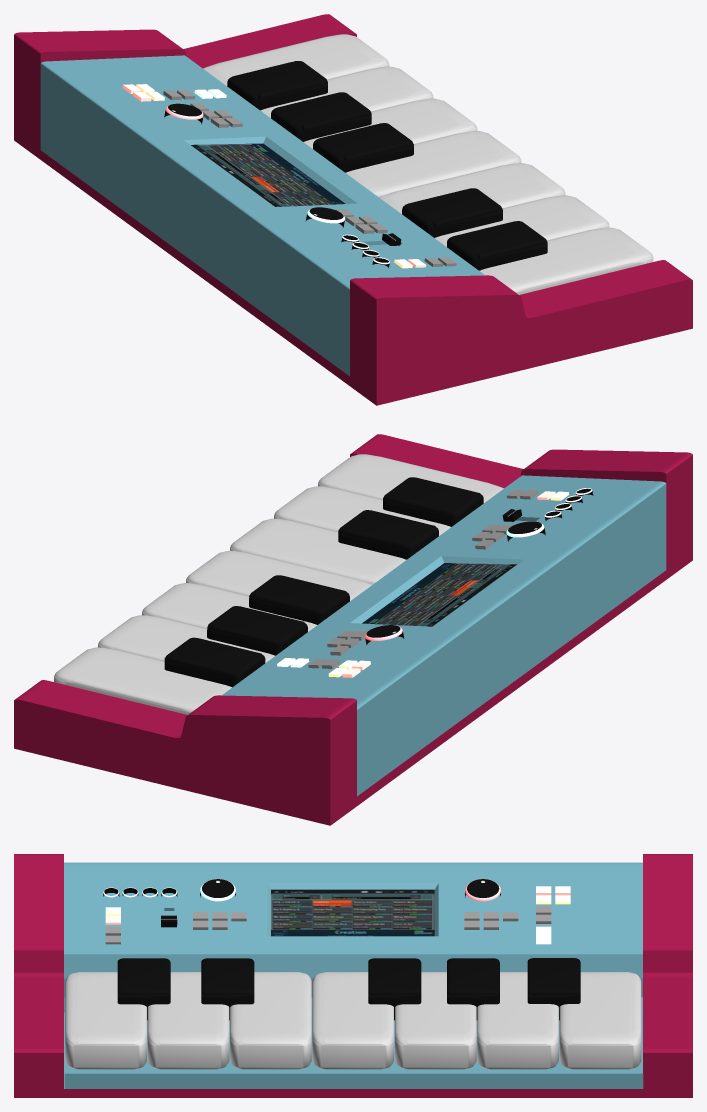
Rendered from piano.gltf.
3 renders of one model, top to bottom at view 1: azimuth 30°, elevation 25°; view 2: azimuth 150°, elevation 25°; view 3: azimuth 270°, elevation 25°, orthographic. The views are drawn at different scales.
Parts seen in each view (by area): view 1: Support_0, Side.002_1, White_3, White.003_5, White.006_8, White.002_4, White.001_2, Black.002_10, Black.004_11, Black.005_13, Black.001_9, Black_12 (+2 smaller); view 2: Support_0, Side.002_1, White.006_8, White.002_4, White.003_5, White_3, White.001_2, Black.005_13, Black.001_9, Black.004_11, Black.002_10, Black_12 (+2 smaller); view 3: Support_0, Side.002_1, White.006_8, White.002_4, White.003_5, White_3, White.001_2, White.005_7, White.004_6, Black.005_13, Black.001_9, Black.002_10 (+4 smaller).
Boxes of the visible parts, box(x1,y1,x2,y2) form: Support_0: box(40, 55, 485, 376); Side.002_1: box(14, 14, 692, 405); White_3: box(479, 227, 653, 294); White.003_5: box(345, 131, 521, 196); White.006_8: box(203, 34, 389, 85); White.002_4: box(379, 163, 565, 213); White.001_2: box(435, 195, 609, 246); Black.002_10: box(402, 188, 502, 237); Black.004_11: box(271, 92, 371, 141); Black.005_13: box(313, 123, 413, 172); Black.001_9: box(447, 221, 547, 270); Black_12: box(227, 61, 327, 110); Support_0: box(221, 475, 666, 796); Side.002_1: box(14, 434, 692, 825); White.006_8: box(54, 647, 231, 714); White.002_4: box(230, 518, 406, 584); White.003_5: box(186, 550, 371, 600); White_3: box(318, 454, 503, 502); White.001_2: box(274, 486, 450, 535); Black.005_13: box(249, 575, 349, 624); Black.001_9: box(383, 477, 483, 526); Black.004_11: box(207, 606, 307, 655); Black.002_10: box(338, 510, 438, 559); Black_12: box(164, 637, 265, 687); Support_0: box(64, 862, 643, 1088); Side.002_1: box(14, 854, 692, 1097); White.006_8: box(559, 972, 641, 1069); White.002_4: box(230, 972, 311, 1069); White.003_5: box(312, 972, 393, 1069); White_3: box(65, 972, 146, 1069); White.001_2: box(147, 972, 229, 1069); White.005_7: box(477, 972, 558, 1069); White.004_6: box(395, 972, 476, 1069); Black.005_13: box(368, 958, 421, 1020); Black.001_9: box(117, 958, 170, 1020); Black.002_10: box(201, 958, 254, 1020).
Bounding box in the file's own units: 3.2 × 1.03 × 6.34.
14 materials, 1 textured.
